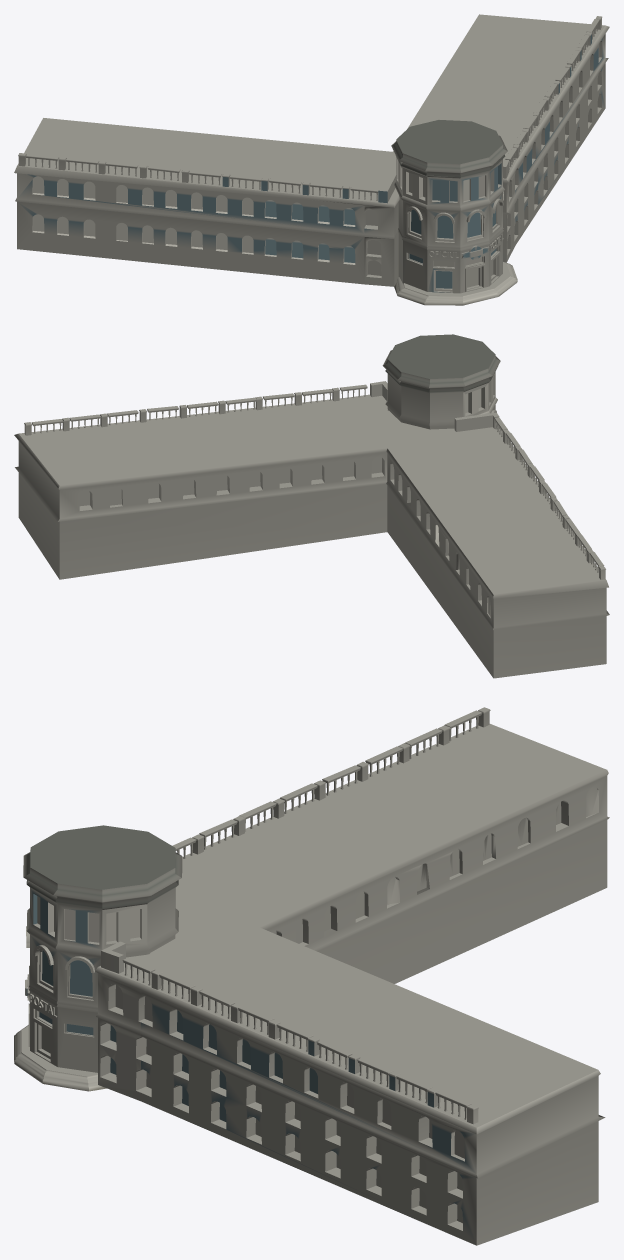
3 views of the same model, one above another, from view 1: azimuth 30°, elevation 25°; view 2: azimuth 150°, elevation 25°; view 3: azimuth 270°, elevation 25° (orthographic). The views are drawn at different scales.
Parts seen in each view (by area): view 1: polySurface126:PIV; view 2: polySurface126:PIV; view 3: polySurface126:PIV.
Part boxes in pixels (x1,y1,x2,y2): polySurface126:PIV: (14,14,609,305); polySurface126:PIV: (14,334,609,678); polySurface126:PIV: (14,707,609,1245).
Bounding box in the file's own units: 24.92 × 5.74 × 15.27.
